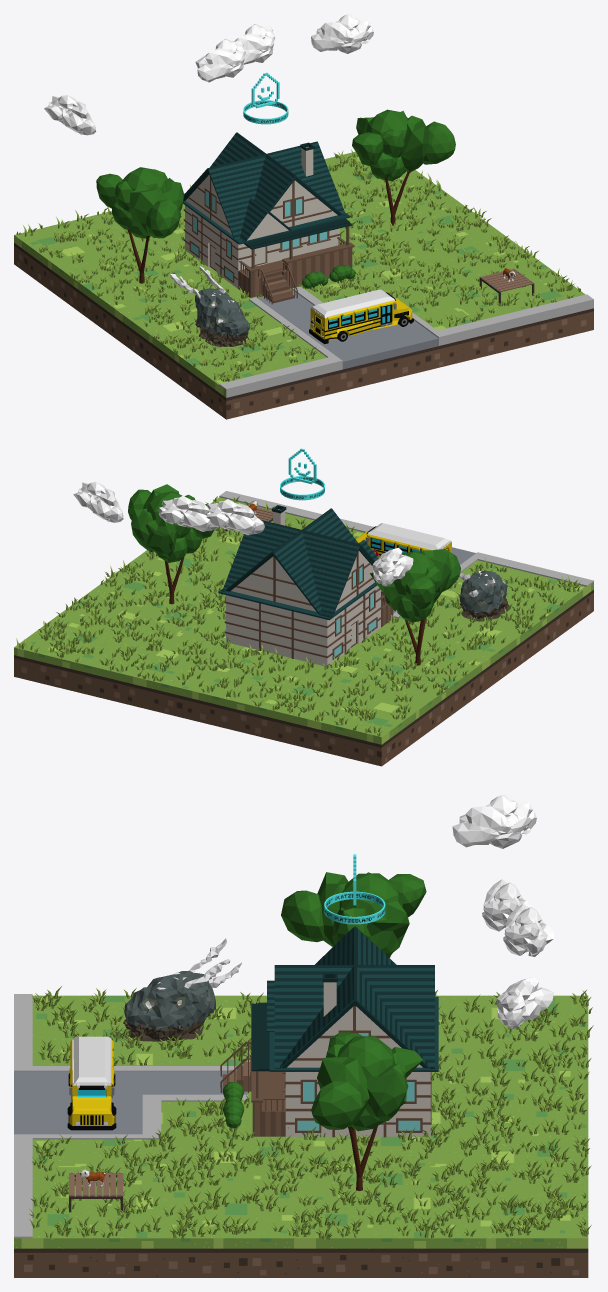
3 views of the same model, one above another, from view 1: azimuth 30°, elevation 25°; view 2: azimuth 150°, elevation 25°; view 3: azimuth 270°, elevation 25° (orthographic). The views are drawn at different scales.
Parts seen in each view (by area): view 1: Cube.006, Cube.793, Circle.012_Grass_0.192, Cube.007, tree, tree.001, VEHICLES_SCHOOL_BUS, OBJRANDOM_METEORITE, TYPE_PREMIUM, Cube.009; view 2: Cube.006, Cube.793, Circle.012_Grass_0.192, Cube.007, tree.001, tree, OBJRANDOM_METEORITE, VEHICLES_SCHOOL_BUS, TYPE_PREMIUM; view 3: Cube.006, Circle.012_Grass_0.192, Cube.793, tree, Cube.007, tree.001, OBJRANDOM_METEORITE, VEHICLES_SCHOOL_BUS, Cube.009, TYPE_PREMIUM.
Part boxes in pixels (box(x1,y1,x2,y2)): Cube.006: box(14, 151, 593, 419); Cube.793: box(183, 132, 354, 304); Circle.012_Grass_0.192: box(16, 149, 580, 381); Cube.007: box(44, 14, 373, 135); tree: box(352, 109, 455, 225); tree.001: box(96, 167, 184, 283); VEHICLES_SCHOOL_BUS: box(309, 289, 413, 344); OBJRANDOM_METEORITE: box(170, 266, 249, 346); TYPE_PREMIUM: box(243, 72, 288, 124); Cube.009: box(479, 268, 534, 303); Cube.006: box(14, 491, 593, 766); Cube.793: box(218, 505, 393, 666); Circle.012_Grass_0.192: box(16, 496, 580, 736); Cube.007: box(73, 481, 413, 586); tree.001: box(370, 549, 460, 665); tree: box(128, 484, 214, 604); OBJRANDOM_METEORITE: box(459, 570, 509, 621); VEHICLES_SCHOOL_BUS: box(356, 523, 451, 558); TYPE_PREMIUM: box(280, 448, 324, 500); Cube.006: box(14, 994, 588, 1277); Circle.012_Grass_0.192: box(29, 986, 593, 1239); Cube.793: box(220, 926, 438, 1137); tree: box(311, 1032, 422, 1190); Cube.007: box(452, 795, 553, 1029); tree.001: box(281, 872, 426, 957); OBJRANDOM_METEORITE: box(123, 938, 241, 1041); VEHICLES_SCHOOL_BUS: box(67, 1036, 116, 1130); Cube.009: box(69, 1172, 122, 1212); TYPE_PREMIUM: box(324, 854, 385, 924).
Bounding box in the file's own units: 4071 × 2300 × 4040.
Materials: 38 (5 with a texture image).
